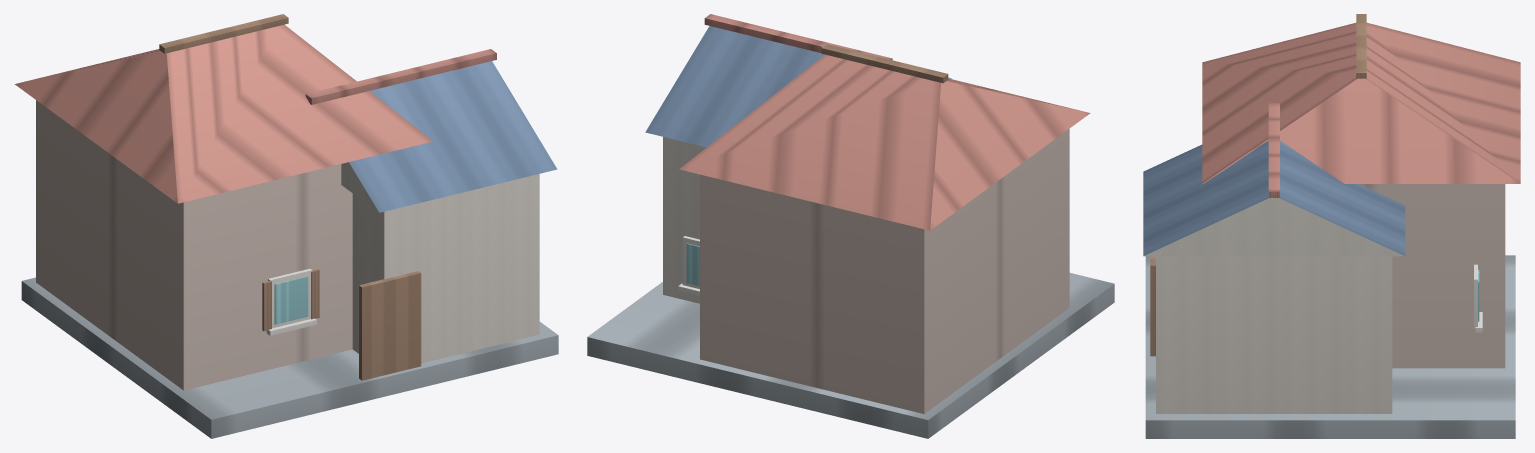
File: corner_home.glb
3 renders of one model, left to right at view 1: azimuth 30°, elevation 25°; view 2: azimuth 150°, elevation 25°; view 3: azimuth 270°, elevation 25°, orthographic. The views are drawn at different scales.
Visible parts, largest first — view 1: corner_home; view 2: corner_home; view 3: corner_home.
Part boxes in pixels (x1,y1,x2,y2): corner_home: (14,14,558,438); corner_home: (587,14,1114,438); corner_home: (1143,14,1520,438).
Bounding box in the file's own units: 7.73 × 6.21 × 7.35.
Materials: 1 (1 with a texture image).
